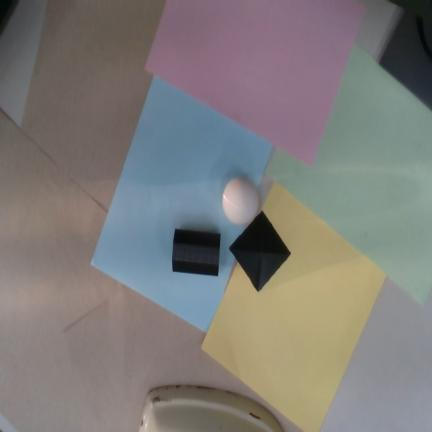Esfera: (222, 177, 260, 226)
Piramide: (229, 210, 291, 292)
Prisma_hexagonal: (172, 228, 221, 276)
